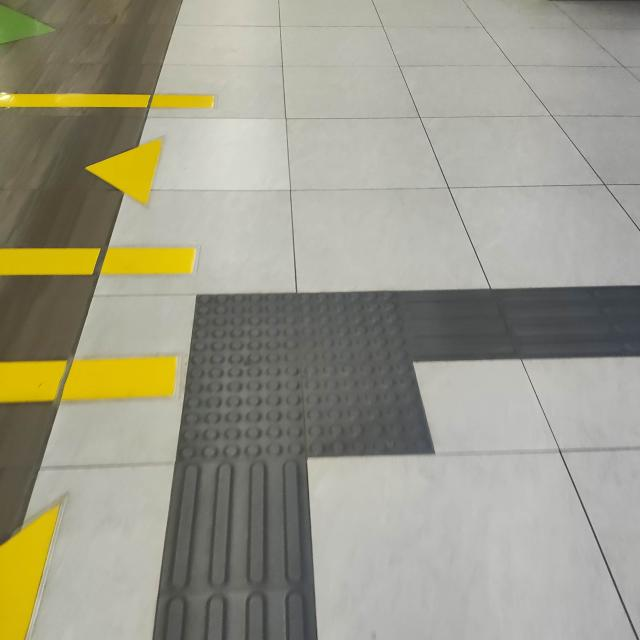kanan: (140, 231, 640, 575)
